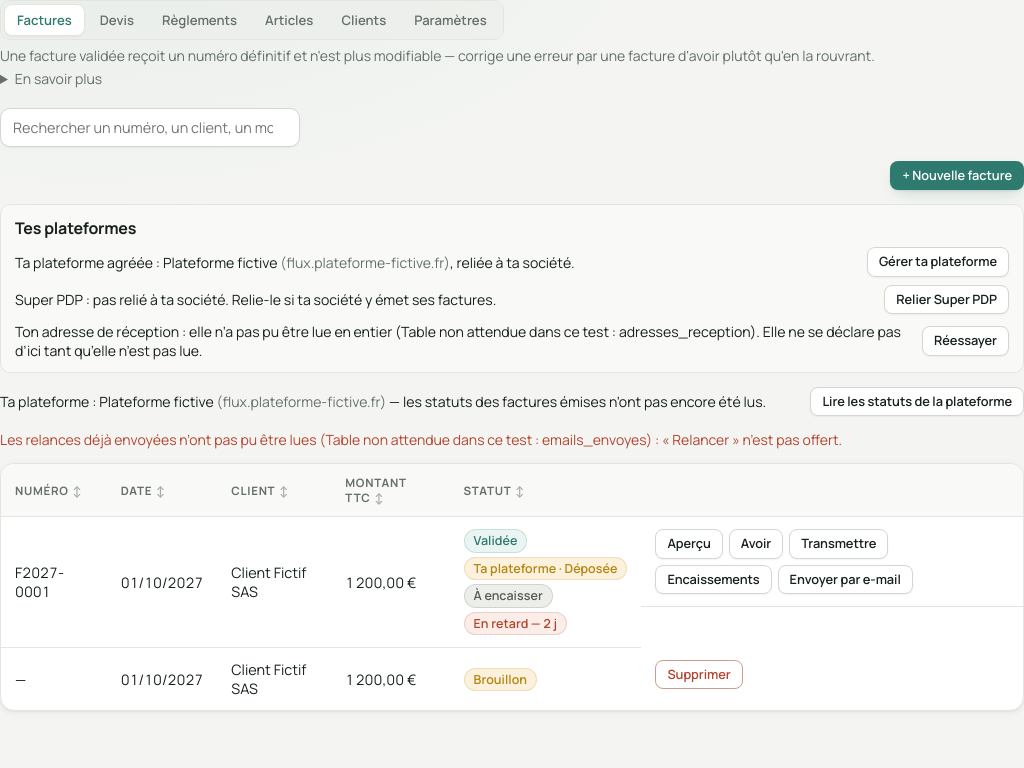
Test case: FacturesTab en mode client — le garde des mots › la transmission d’une facture déposée sur la plateforme du titulaire, et sa pastille : rien du cabinet dans ce que lit le client
Expected: the text "F2027-0001" is shown, top-left (15, 563), bottom-right (64, 601)
Click the button "Transmettre". click: (839, 544)
box: top-left (789, 529), bottom-right (888, 559)
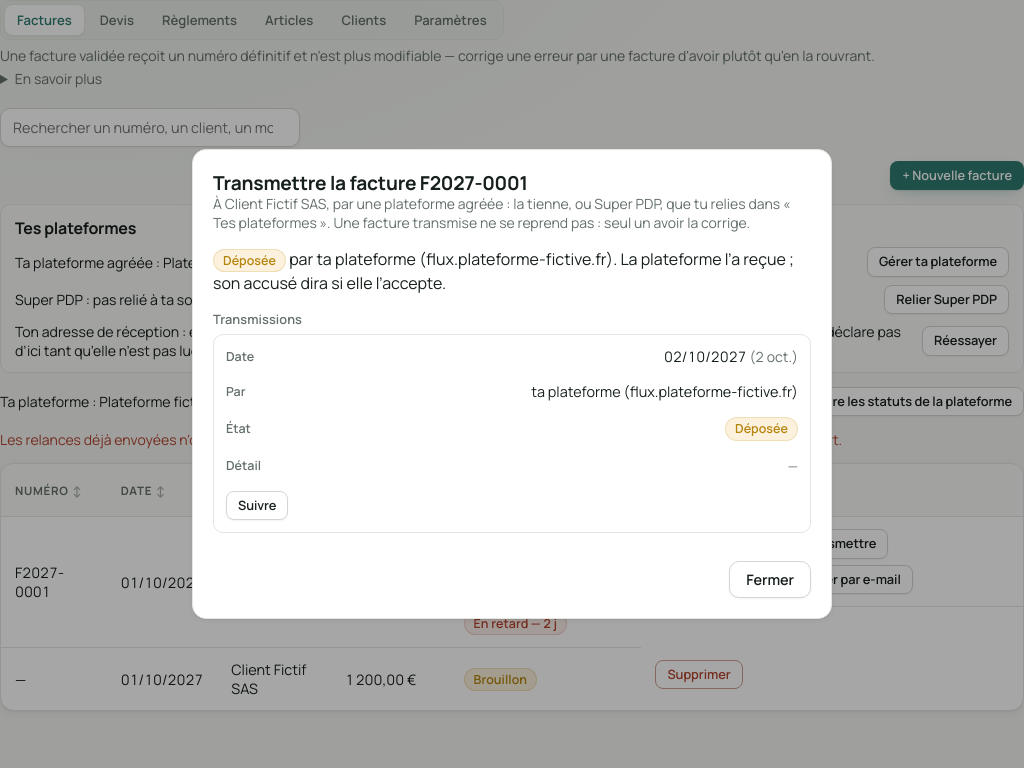
Expected: the button "Suivre" is shown, top-left (226, 491), bottom-right (288, 520)
